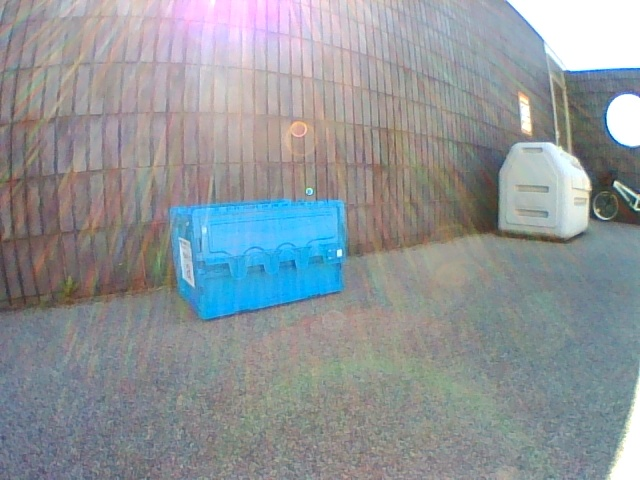blue_box: (170, 200, 344, 320)
tag: (183, 242, 191, 281)
